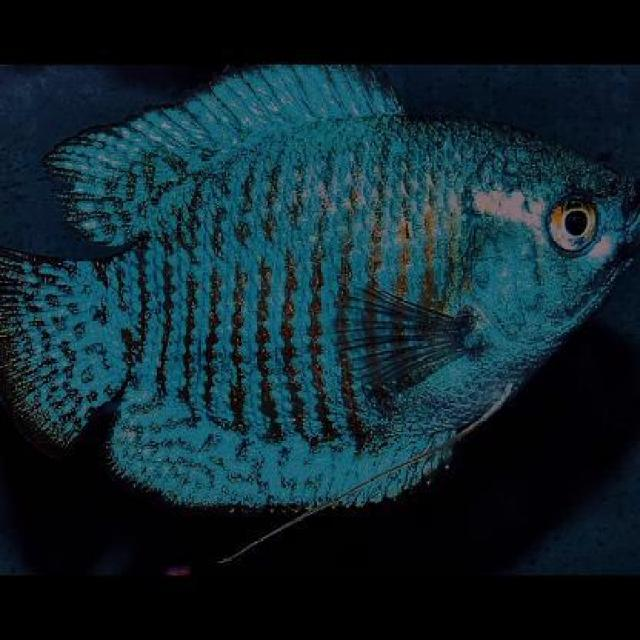Gourami: (0, 61, 638, 509)
